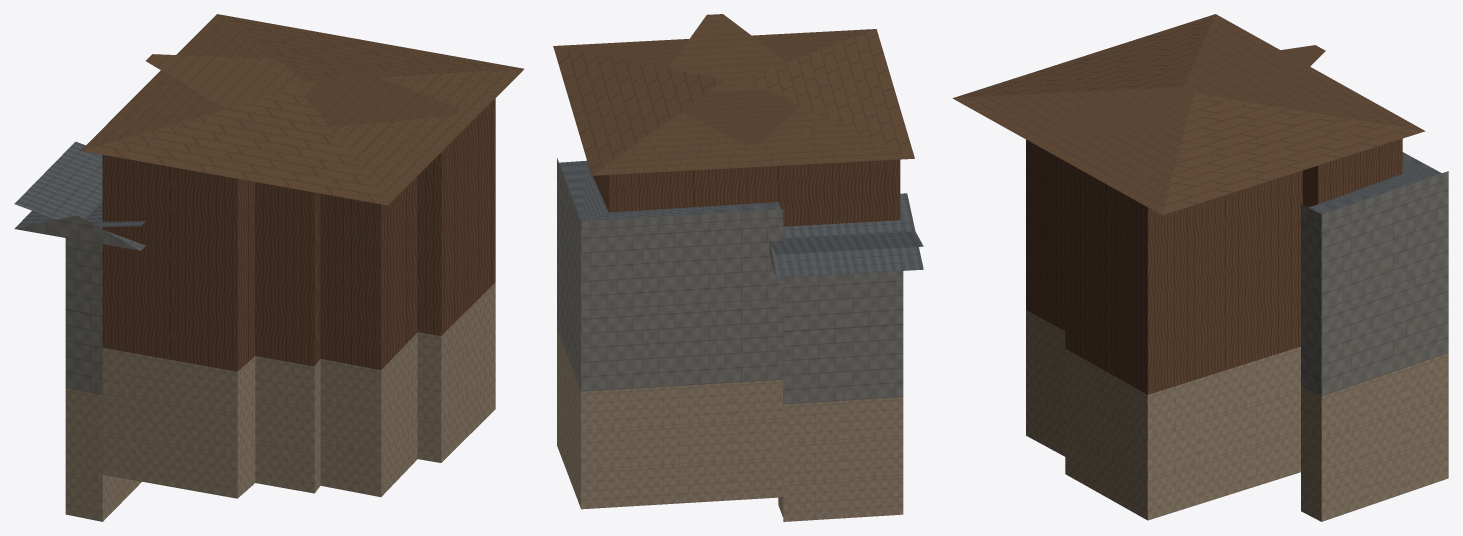
The model's file is bld_c15_25_402.gltf.
3 views of the same model, side by side, from view 1: azimuth 30°, elevation 25°; view 2: azimuth 150°, elevation 25°; view 3: azimuth 270°, elevation 25° (orthographic). The views are drawn at different scales.
Visible parts, largest first — view 1: bld_c15_25_402; view 2: bld_c15_25_402; view 3: bld_c15_25_402.
Boxes of the visible parts, x1,y1,x2,y2 form: bld_c15_25_402: (14, 14, 524, 521); bld_c15_25_402: (553, 14, 923, 521); bld_c15_25_402: (952, 14, 1448, 521).
Bounding box in the file's own units: 19.14 × 16 × 18.27.
6 materials, 6 textured.
